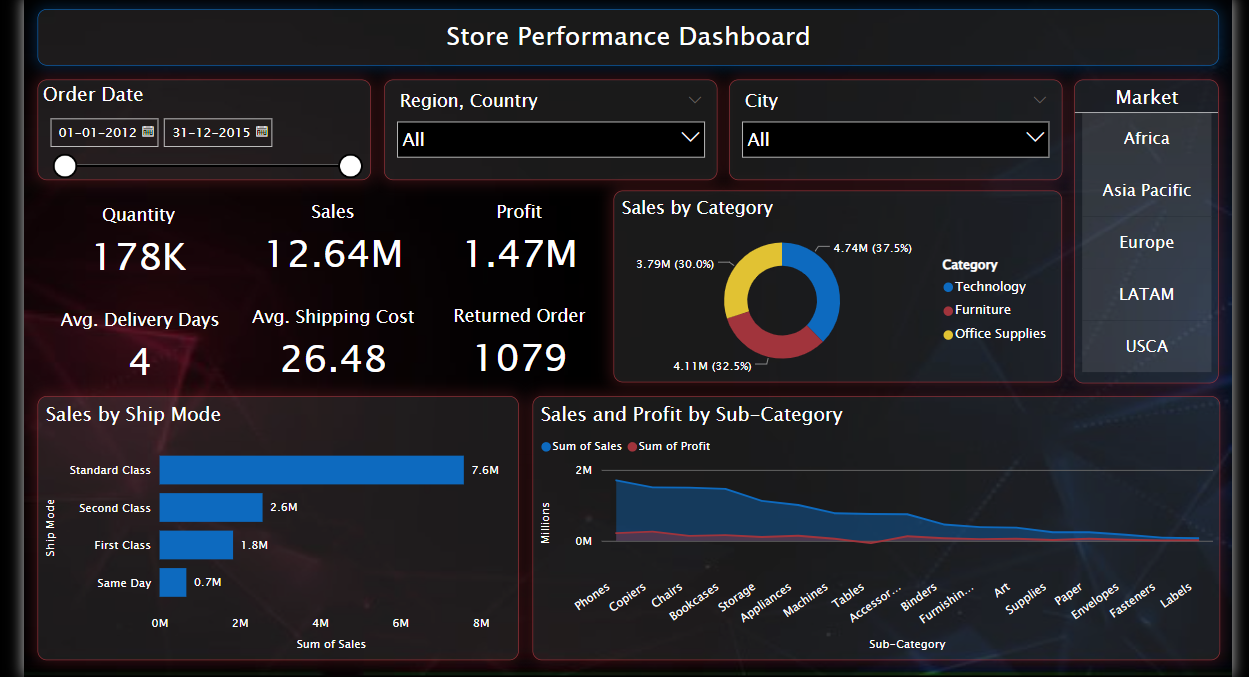

This screenshot's page, from the dashboard's own definition file:
{"tool":"powerbi","page":{"name":"Page 1","canvas":[1280,720],"ordinal":0},"visuals":[{"type":"textbox","box":[15,13.3,1251.7,60],"z":0},{"type":"cardVisual","fields":{"Data":["Sum(Orders.Profit)"]},"box":[413.3,201.7,223.3,91.7],"z":1000},{"type":"cardVisual","fields":{"Data":["Sum(Orders.Quantity)"]},"box":[20,205,201.7,91.7],"z":2000},{"type":"cardVisual","fields":{"Data":["Sum(Orders.Sales)"]},"box":[220,201.7,216.7,91.7],"z":3000},{"type":"cardVisual","fields":{"Data":["Avg(Orders.Delivery Days)"]},"box":[21.7,316.7,201.7,91.7],"z":4000},{"type":"donutChart","title":"Sales by Category","fields":{"Category":["Orders.Category"],"Y":["Sum(Orders.Sales)"]},"box":[625,205,475,203.3],"z":5000},{"type":"areaChart","title":"Sales and Profit by Sub-Category","fields":{"Category":["Orders.Sub-Category"],"Y":["Sum(Orders.Sales)","Sum(Orders.Profit)"]},"box":[538.3,423.3,728.3,280],"z":6000},{"type":"cardVisual","fields":{"Data":["CountNonNull(Returns.Returned)"]},"box":[425,306.7,201.7,95],"z":6001},{"type":"slicer","fields":{"Values":["Orders.Region","Orders.Country"]},"box":[381,86.7,353.3,106.7],"z":6002},{"type":"cardVisual","fields":{"Data":["Avg(Orders.Shipping Cost)"]},"box":[216.7,313.3,223.3,95],"z":6003},{"type":"clusteredBarChart","title":"Sales by Ship Mode","fields":{"Category":["Orders.Ship Mode"],"Y":["Sum(Orders.Sales)"]},"box":[15,423.3,510,280],"z":6004},{"type":"slicer","title":"Order Date","fields":{"Values":["Orders.Order Date"]},"box":[15,86.7,353.3,106.7],"z":6005},{"type":"advancedSlicerVisual","fields":{"Values":["Orders.Market"]},"box":[1113.3,86.7,153.3,321.7],"z":6006},{"type":"slicer","fields":{"Values":["Orders.City"]},"box":[746.7,86.7,353,106.7],"z":6007}]}

Visuals, with their boxes on the page's 1280x720 design canvas (x1, y1, x2, y2). These are canvas units, not pixel positions in the 1249x677 screenshot, which may show the page scaled, cropped or inside an application window:
textbox: l=15, t=13, r=1267, b=73
cardVisual - Sum(Orders.Profit): l=413, t=202, r=637, b=293
cardVisual - Sum(Orders.Quantity): l=20, t=205, r=222, b=297
cardVisual - Sum(Orders.Sales): l=220, t=202, r=437, b=293
cardVisual - Avg(Orders.Delivery Days): l=22, t=317, r=223, b=408
"Sales by Category" donutChart: l=625, t=205, r=1100, b=408
"Sales and Profit by Sub-Category" areaChart: l=538, t=423, r=1267, b=703
cardVisual - CountNonNull(Returns.Returned): l=425, t=307, r=627, b=402
slicer - Orders.Region x Orders.Country: l=381, t=87, r=734, b=193
cardVisual - Avg(Orders.Shipping Cost): l=217, t=313, r=440, b=408
"Sales by Ship Mode" clusteredBarChart: l=15, t=423, r=525, b=703
"Order Date" slicer: l=15, t=87, r=368, b=193
advancedSlicerVisual - Orders.Market: l=1113, t=87, r=1267, b=408
slicer - Orders.City: l=747, t=87, r=1100, b=193
